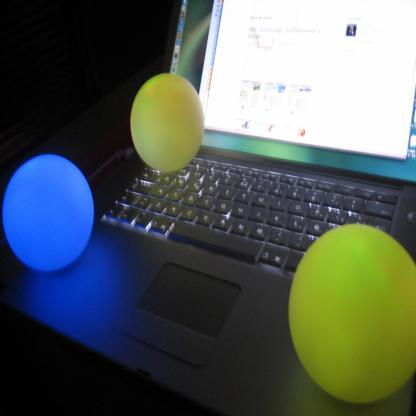Ball: (288, 223, 416, 405), (0, 155, 94, 273), (131, 74, 203, 173)
